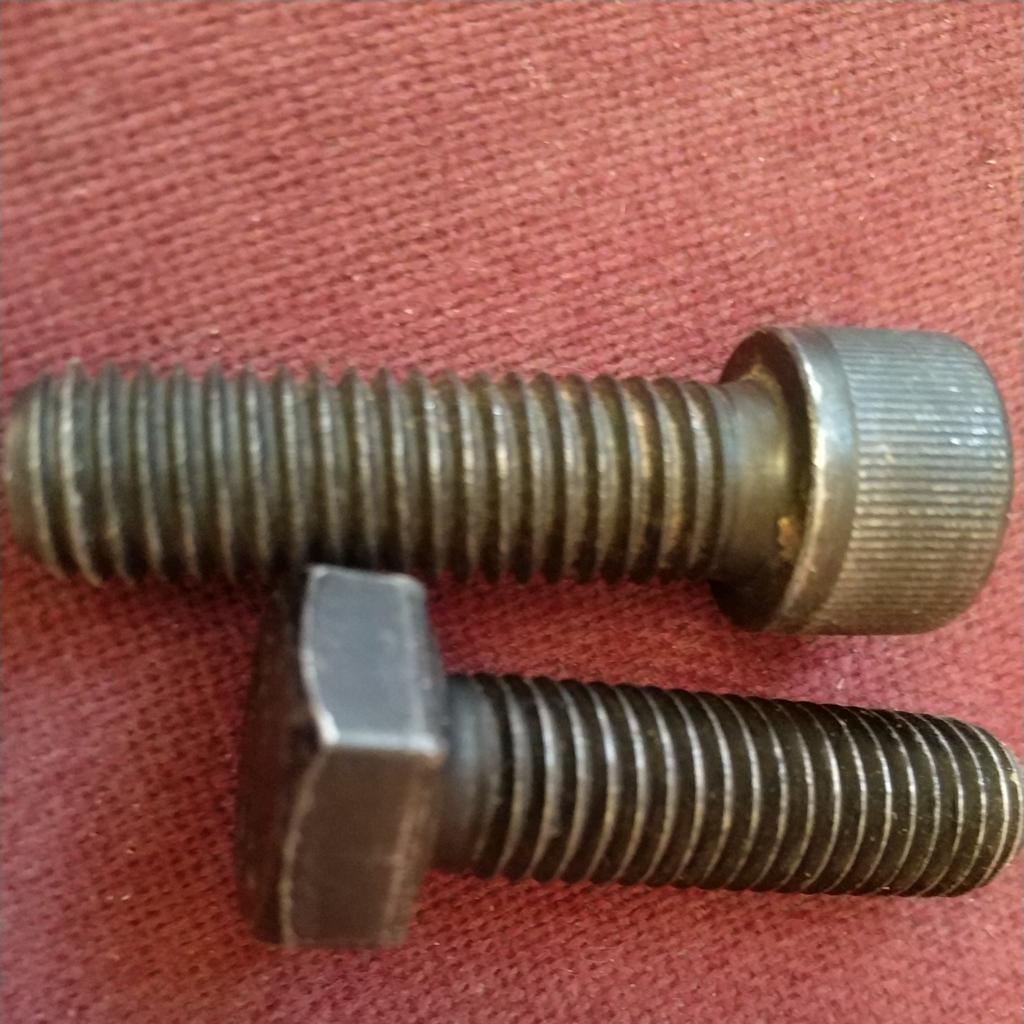screwtype1black: (12, 318, 1015, 646)
screwtype2black: (228, 560, 1016, 956)
